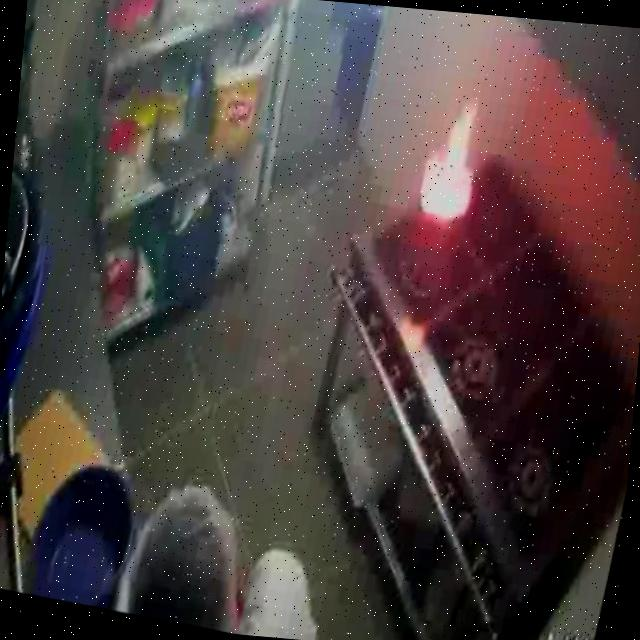fire: (387, 68, 521, 284)
